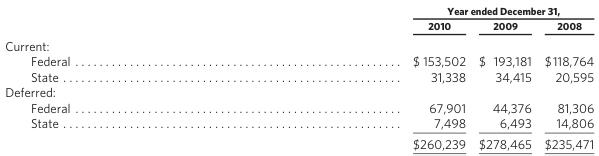table: (4, 3, 593, 150)
table column: (4, 3, 240, 150), (240, 3, 471, 150), (471, 3, 537, 150), (537, 3, 593, 150)
table column header: (4, 3, 593, 34)
table projected row header: (4, 34, 593, 52), (4, 83, 593, 99)
table row: (4, 34, 593, 52), (4, 114, 593, 132), (4, 132, 593, 150), (4, 17, 593, 34), (4, 52, 593, 68), (4, 83, 593, 99), (4, 68, 593, 83), (4, 99, 593, 114), (4, 3, 593, 17)
table spanning cell: (240, 3, 593, 17)
